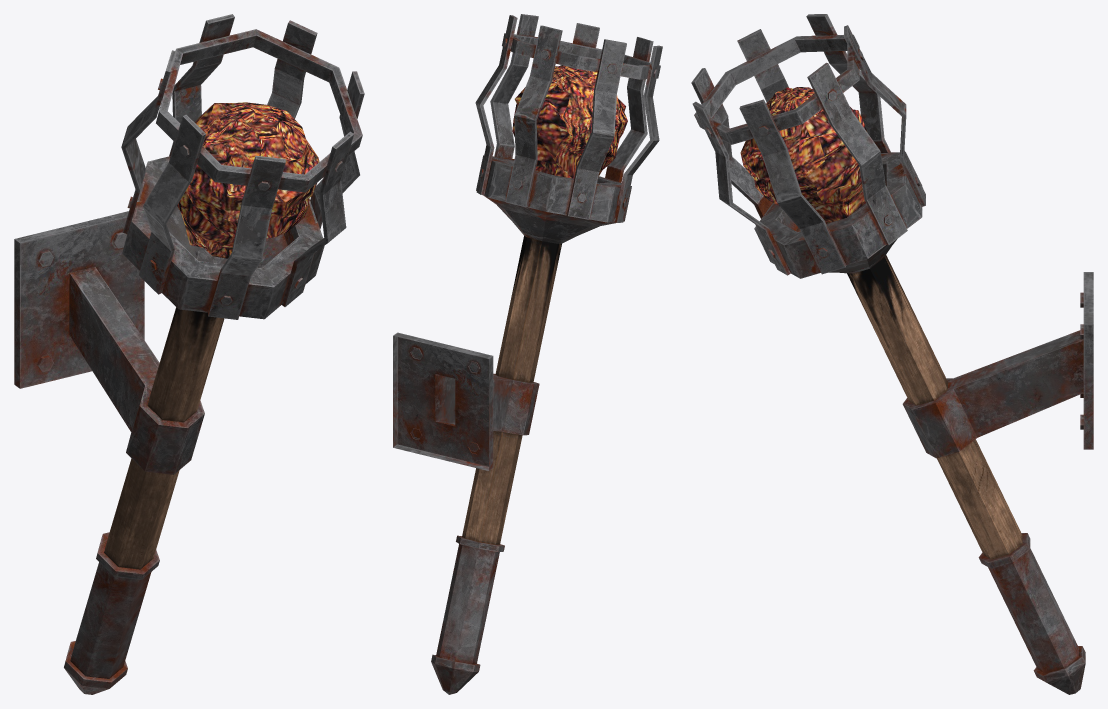
The model's file is Torch.gltf.
The picture shows the model from 3 angles, left to right: view 1: azimuth 30°, elevation 25°; view 2: azimuth 150°, elevation 25°; view 3: azimuth 270°, elevation 25°; orthographic projection. The views are drawn at different scales.
Visible parts, largest first — view 1: Torch; view 2: Torch; view 3: Torch.
Boxes of the visible parts, x1,y1,x2,y2 form: Torch: (14,14,364,694); Torch: (393,14,662,694); Torch: (691,14,1093,694).
Size of the model in its own units: 0.1424 by 0.4971 by 0.2735.
Materials: 1 (1 with a texture image).
